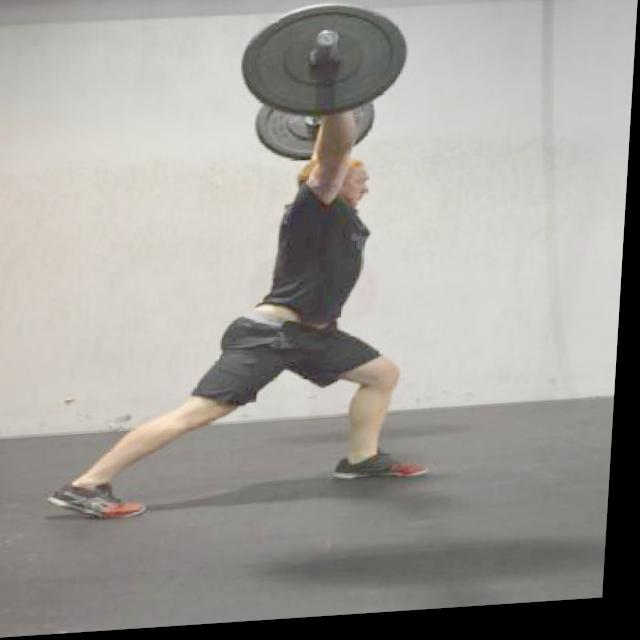barbell: (235, 1, 420, 130)
